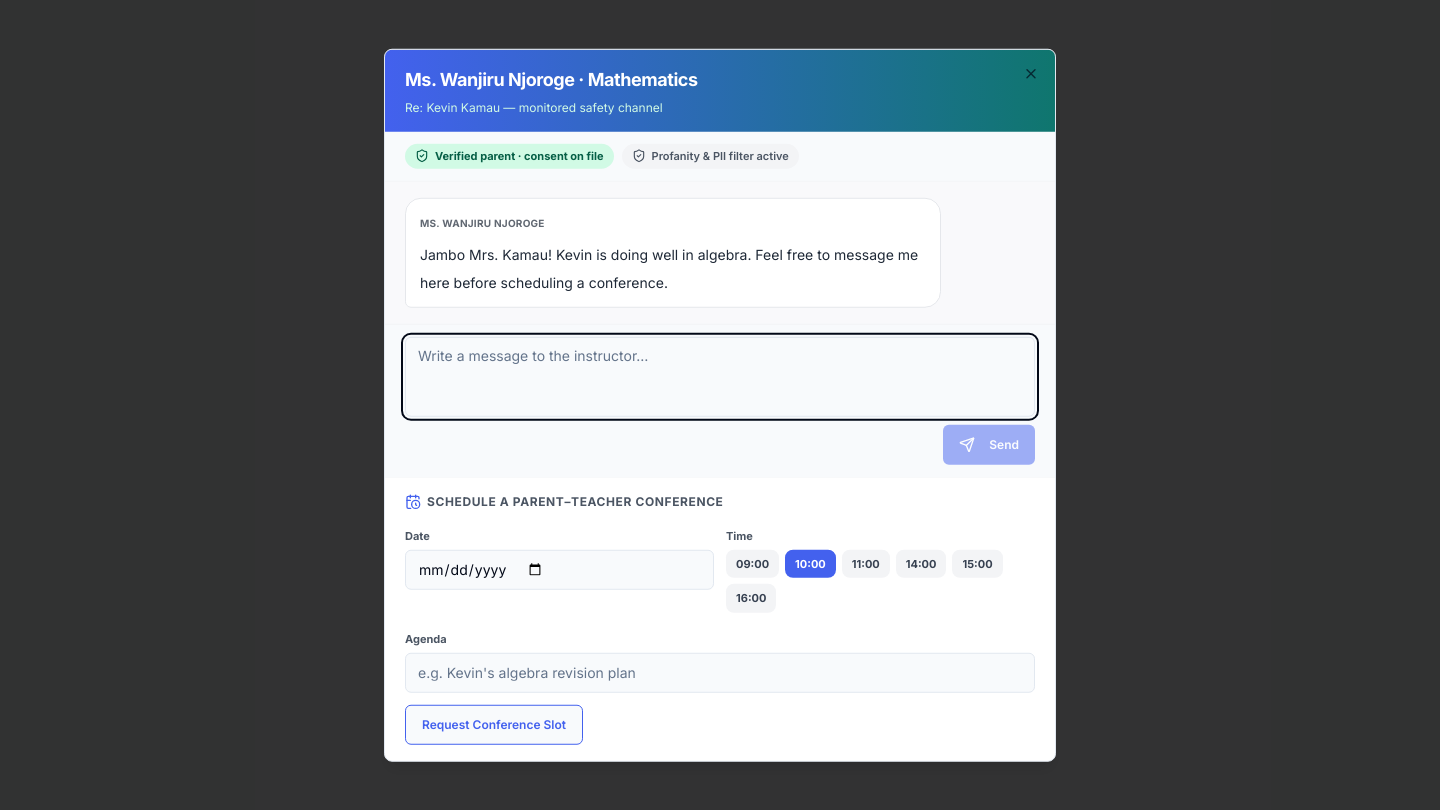
ParentTeacherChatModal Component › blocks phone numbers with the safety advisory instead of sending
The width and height of the screenshot is (1440, 810).
Type "Please call me on 0712345678 about the trip" into the text box named "Message composer" at (720, 376), box [405,336,1035,416]
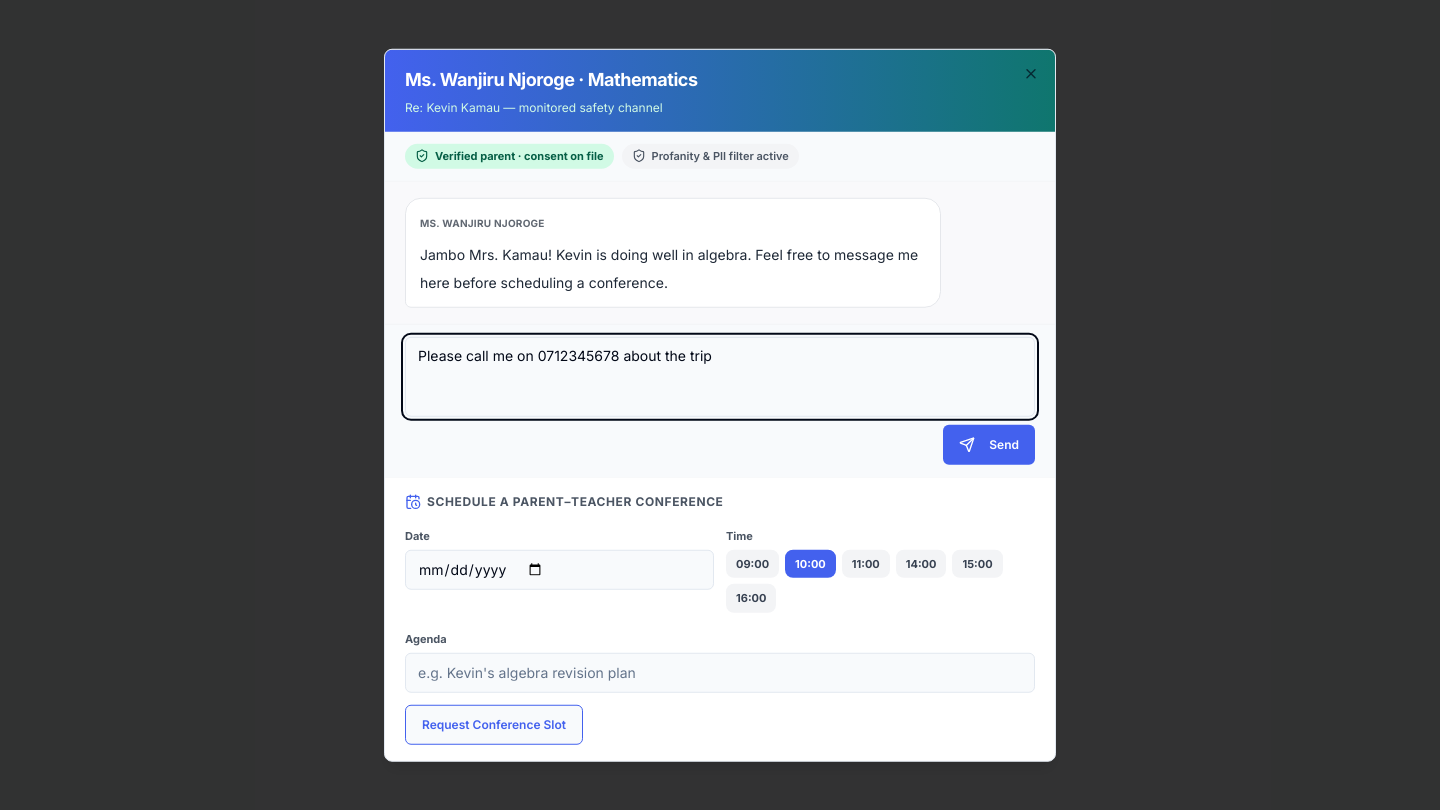
Click the button "Send" at (989, 444), box [943,424,1035,464]
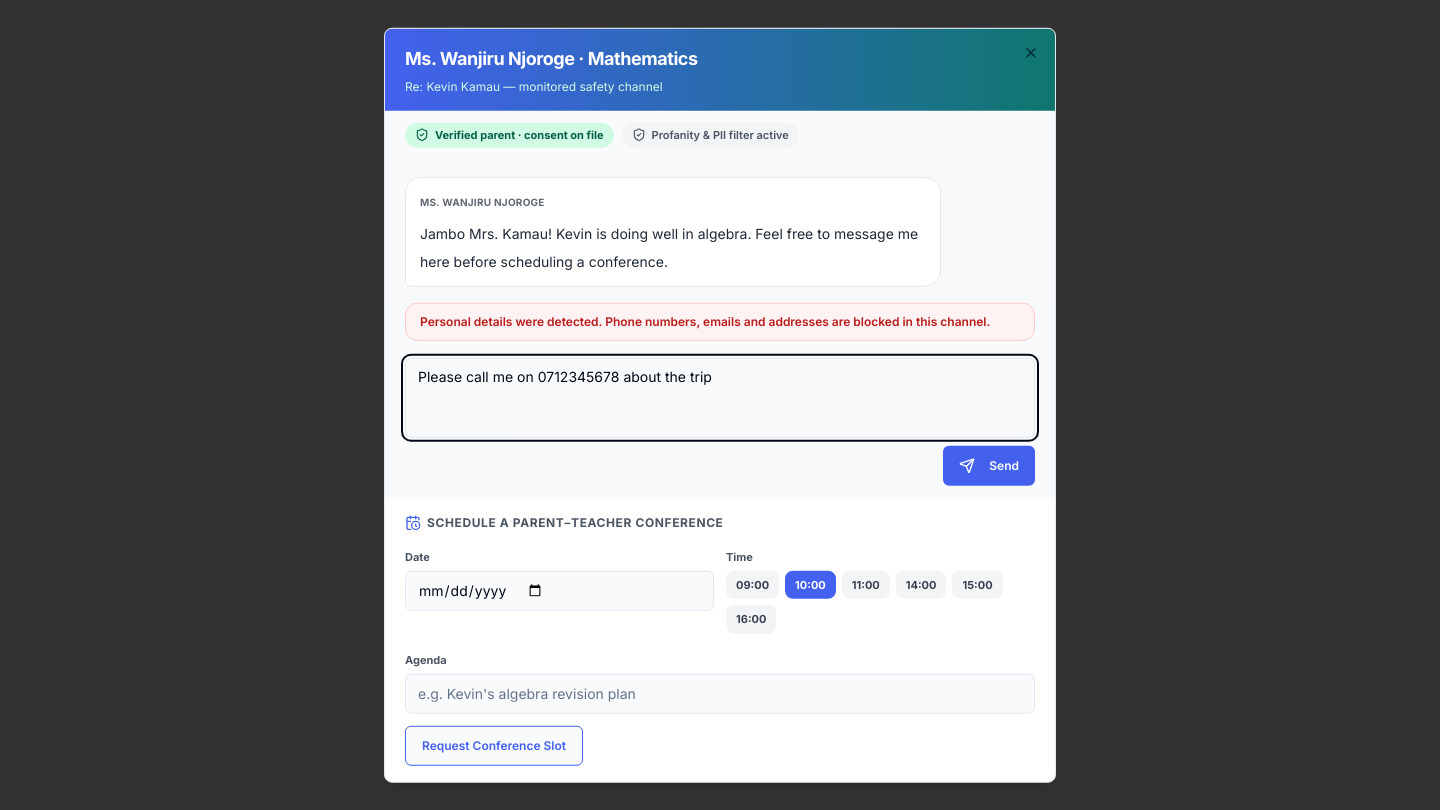
Expected: the message shows "Personal details were detected", [420,313,990,328]
